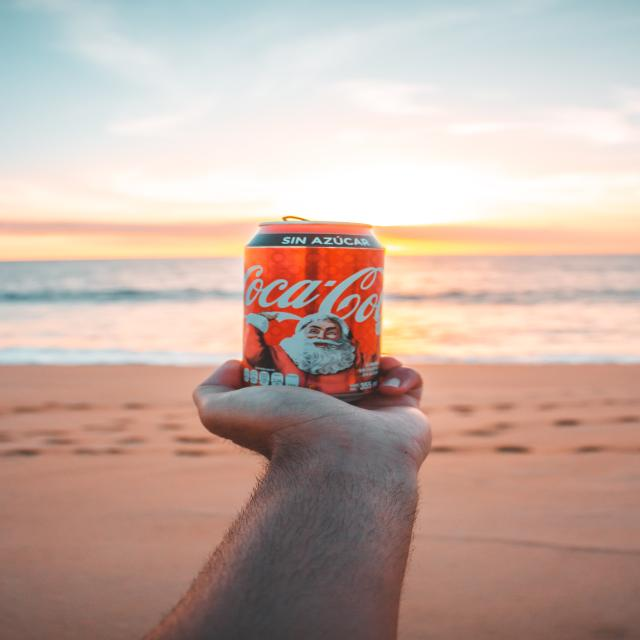can: (240, 217, 386, 406)
